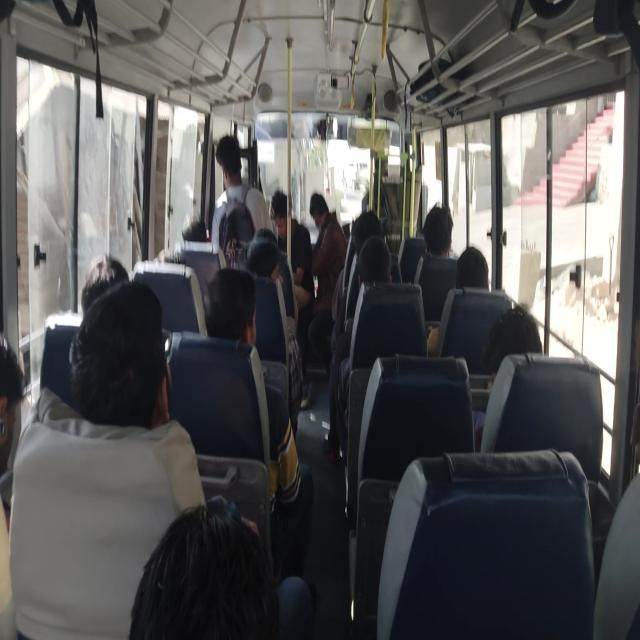person: (116, 516, 275, 640), (73, 299, 179, 416), (0, 338, 34, 470), (207, 276, 261, 340), (491, 303, 544, 367), (64, 264, 136, 309), (253, 197, 308, 249), (306, 199, 342, 268), (358, 244, 406, 293), (409, 210, 456, 256), (228, 211, 277, 249), (240, 239, 280, 283), (451, 240, 486, 286), (212, 132, 246, 169), (353, 216, 382, 258), (170, 223, 207, 252)
